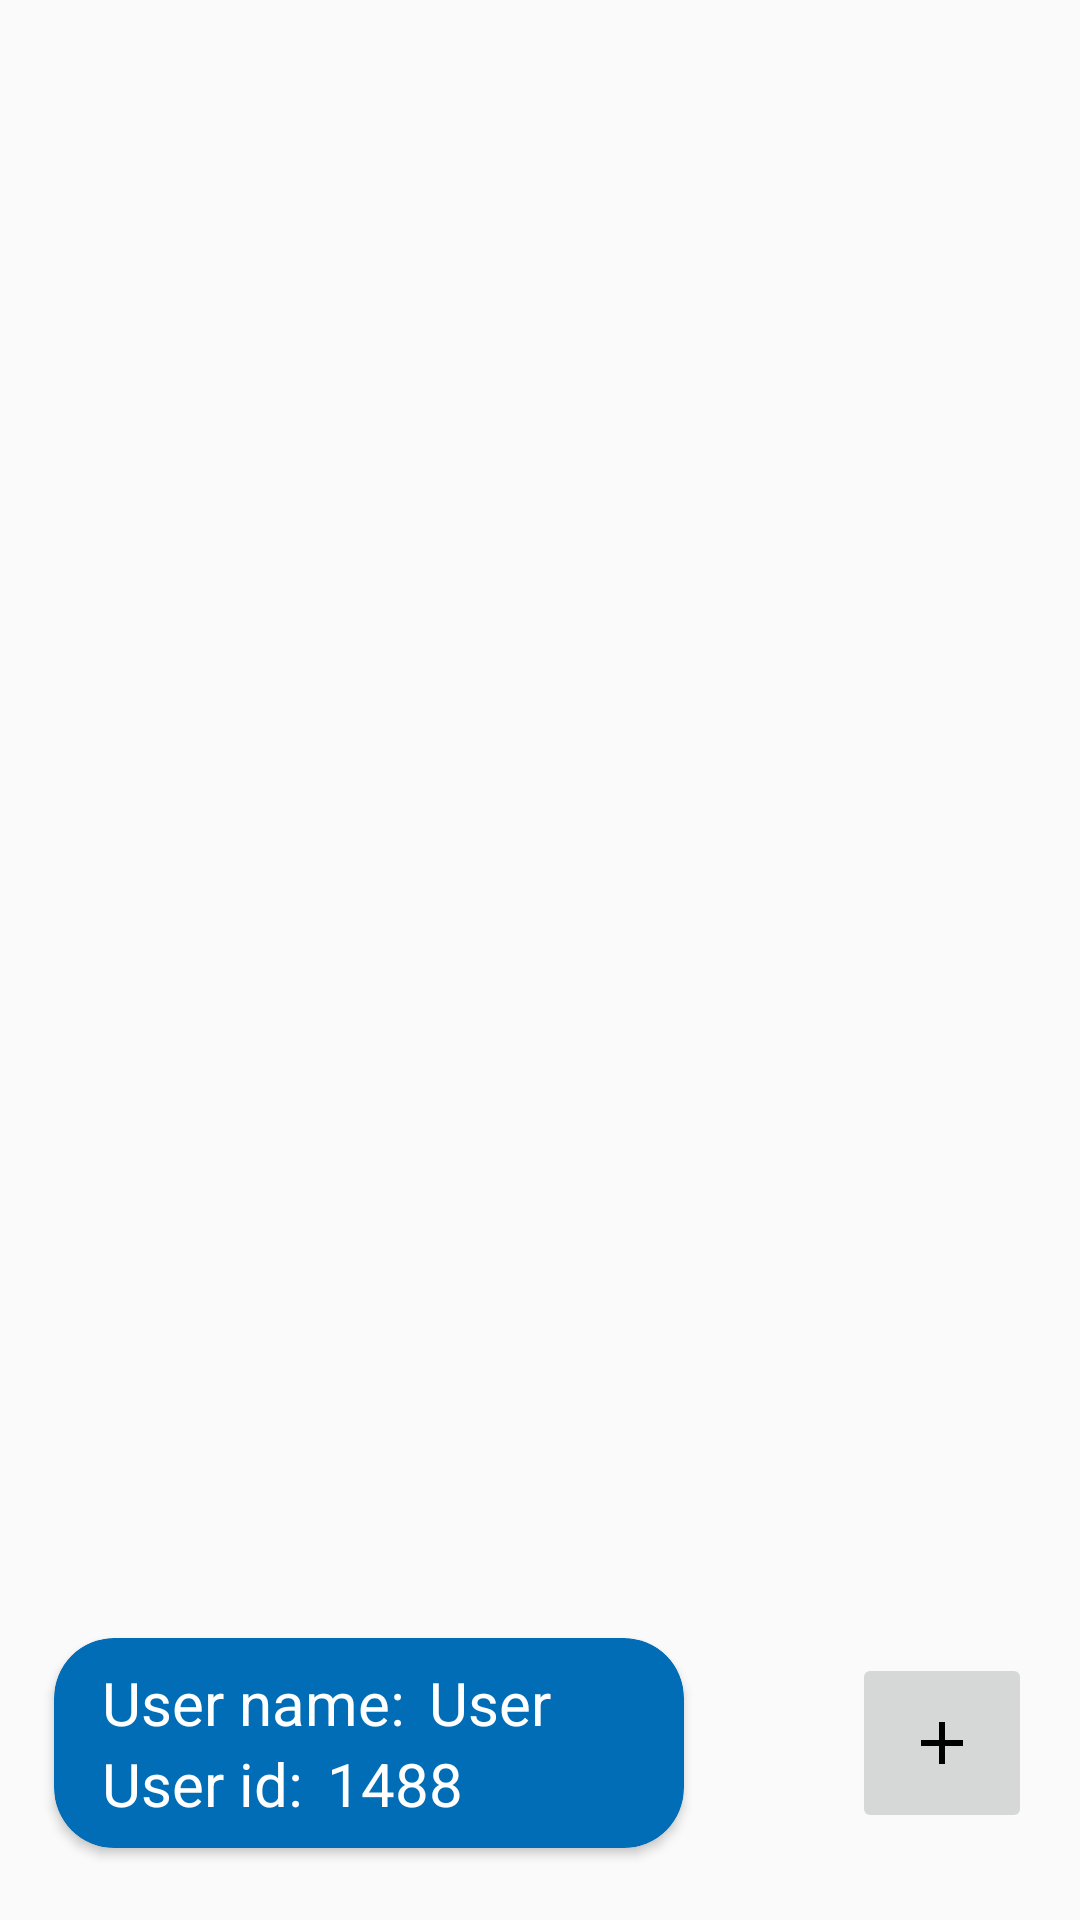

Screen size 1080 × 1920. Icon name, then its box in pixels as (x1, y1, x2, y2):
create room: (864, 1671, 1020, 1815)
